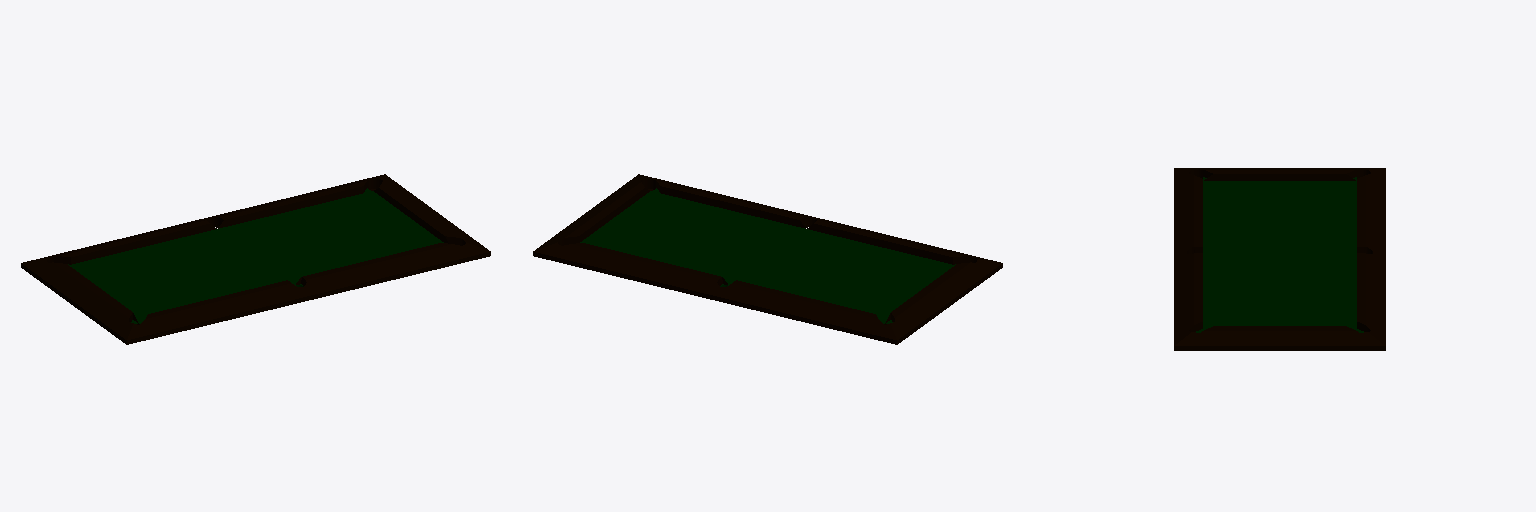
The model's file is billiard1.obj.
3 renders of one model, left to right at view 1: azimuth 30°, elevation 25°; view 2: azimuth 150°, elevation 25°; view 3: azimuth 270°, elevation 25°, orthographic.
Visible parts, largest first — view 1: Cube_Cube.001; view 2: Cube_Cube.001; view 3: Cube_Cube.001.
Part boxes in pixels (x1,y1,x2,y2): Cube_Cube.001: (21, 174, 490, 344); Cube_Cube.001: (533, 174, 1002, 344); Cube_Cube.001: (1174, 168, 1385, 350).
Bounding box in the file's own units: 19.92 × 0.6164 × 10.03.